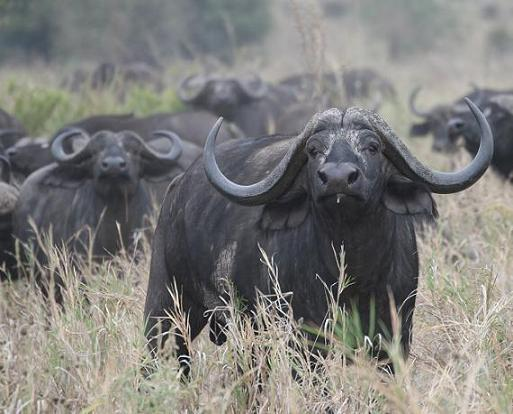Buffalo: (1, 38, 513, 395)
